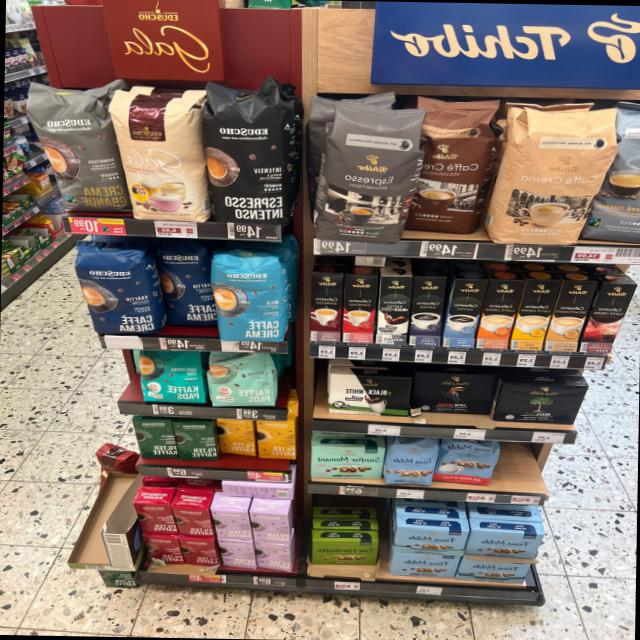BM Gemahlen: (491, 380, 590, 424)
BW Gemahlen: (324, 373, 411, 417)
CC Mild: (490, 108, 618, 246)
CC Vollmundig 36 Pads: (407, 97, 504, 235)
Espresso Aromatisch: (313, 105, 430, 242)
FM 36 Pads: (433, 440, 503, 486)
FM Bohne: (384, 438, 439, 486)
FM Gemahlen: (463, 528, 543, 560), (392, 525, 467, 556), (454, 556, 529, 585), (388, 552, 461, 580)
Herzhatfe Mundig: (310, 538, 379, 566)
LG Gemahlen: (411, 372, 496, 417)
SM Gemahlen: (308, 445, 384, 480)
Simo CC Colombia: (577, 283, 636, 354)
Simo CCMild bigpack: (509, 279, 560, 351)
Simo CCVollmundig bigpack: (474, 280, 524, 349)
Simo Decaff: (542, 280, 597, 352)
Simo Es Brazil: (342, 274, 376, 342)
Simo Es Caramel: (310, 272, 341, 340)
Simo Es Elegant: (376, 275, 412, 345)
Simo Es Kraft: (408, 275, 444, 345)
Simo Es Vanilla: (443, 280, 485, 347)
